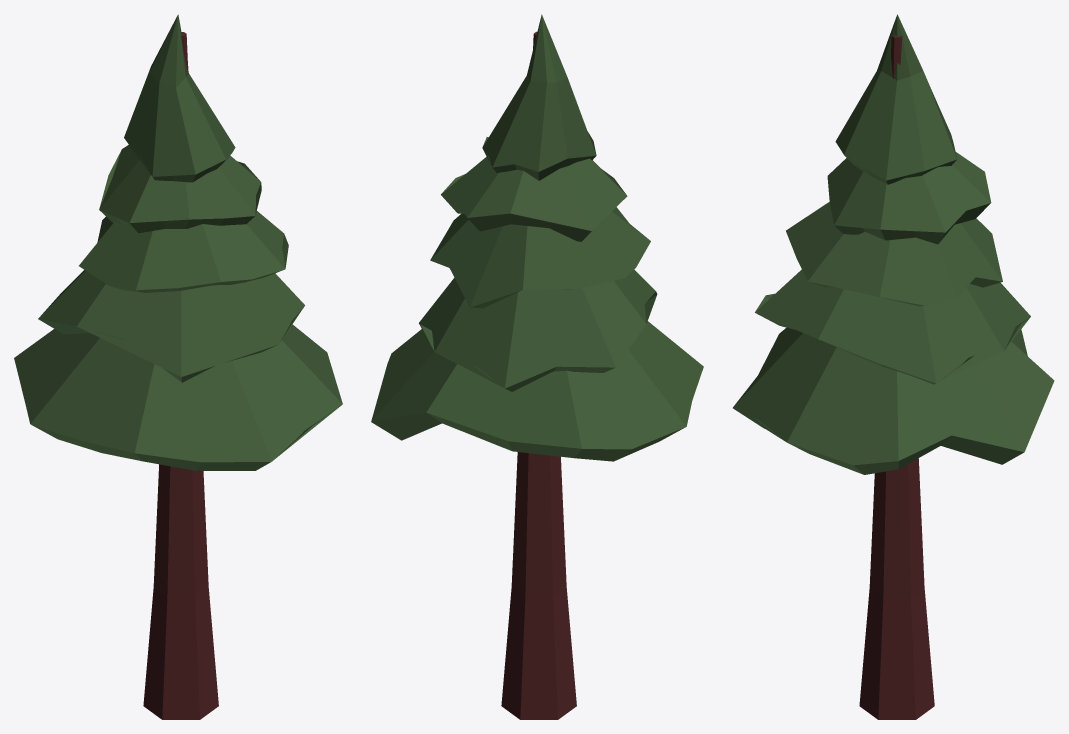
File: pine1.fbx
The picture shows the model from 3 angles, left to right: view 1: azimuth 30°, elevation 25°; view 2: azimuth 150°, elevation 25°; view 3: azimuth 270°, elevation 25°; orthographic projection.
Visible parts, largest first — view 1: Spruce1; view 2: Spruce1; view 3: Spruce1.
Boxes of the visible parts, x1,y1,x2,y2 form: Spruce1: (14, 14, 342, 719); Spruce1: (371, 14, 703, 719); Spruce1: (733, 14, 1054, 719).
Size of the model in its own units: 308 by 689 by 291.
